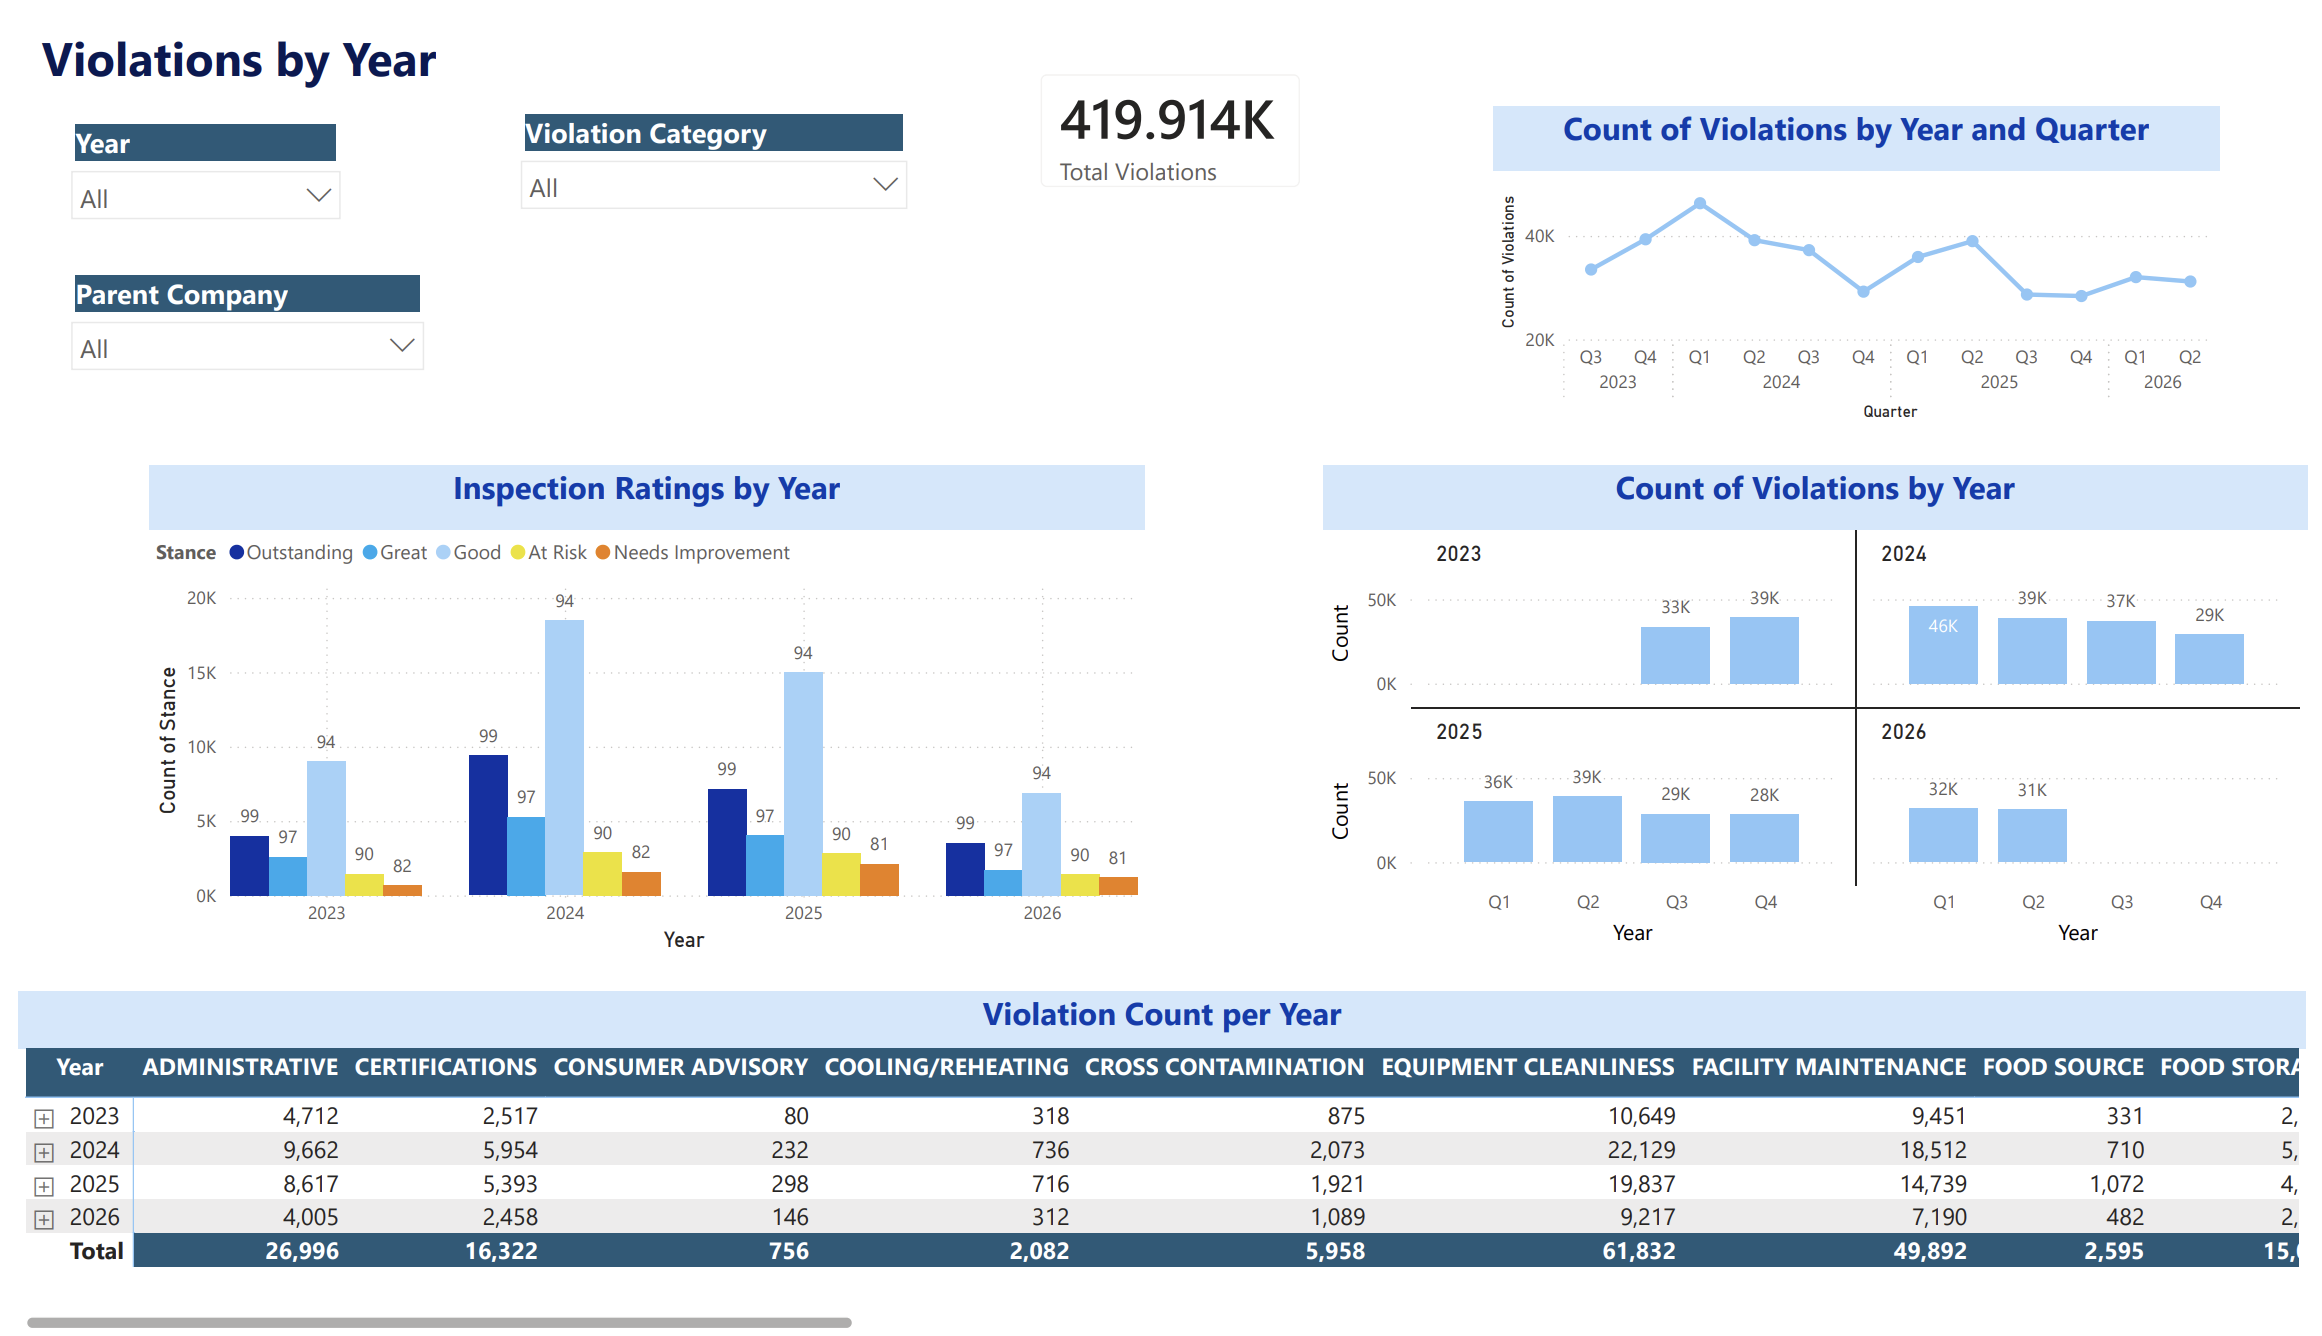

This screenshot's page, from the dashboard's own definition file:
{"tool":"powerbi","page":{"name":"Violations by Year","canvas":[1600,900],"ordinal":4},"visuals":[{"type":"clusteredColumnChart","title":"Inspection Ratings by Year","fields":{"Y":["CountNonNull(inspections_clean.Stance)"],"Series":["inspections_clean.Stance"],"Category":["CalendarDate.Year"]},"box":[102,306.1,679.6,336.7],"z":0},{"type":"lineChart","fields":{"Y":["CountNonNull(violations_clean.violation_description)"],"Category":["CalendarDate.Year","CalendarDate.Quarter"]},"box":[1020.4,61.2,495.9,218.4],"z":1000},{"type":"columnChart","title":"Count of Violations by Year","fields":{"Y":["CountNonNull(violations_clean.violation_description)"],"Rows":["CalendarDate.Year"],"Category":["CalendarDate.Quarter"]},"box":[904.1,306.1,671.4,332.7],"z":2000},{"type":"pivotTable","title":"Violation Count per Year","fields":{"Columns":["violations_clean.violation_mapping.standardized_category"],"Values":["inspections_clean.city_violation_count 2"],"Rows":["CalendarDate.Year","CalendarDate.Quarter"]},"box":[38.7,664.5,1561.3,235.5],"z":3000},{"type":"cardVisual","title":"fghh","fields":{"Data":["CountNonNull(violations_clean.violation_description)"]},"box":[693.9,22.4,210.7,110.7],"z":4000},{"type":"textbox","box":[24.2,0,604.8,66.1],"z":5000},{"type":"slicer","fields":{"Values":["CalendarDate.Year"]},"box":[39.3,67.9,203.2,79],"z":6000},{"type":"slicer","fields":{"Values":["violations_clean.violation_mapping.standardized_category"]},"box":[346.4,60.7,283.9,71.4],"z":7000},{"type":"slicer","fields":{"Values":["inspections_clean.parent_company_clean"]},"box":[38.8,171.4,261.2,87.8],"z":7001}]}

Visuals, with their boxes in screenshot pixels (x1, y1, x2, y2), scaled from the page's 1600x900 canvas onto the 2322x1336 screenshot:
"Inspection Ratings by Year" clusteredColumnChart: {"left": 148, "top": 454, "right": 1134, "bottom": 954}
lineChart - CountNonNull(violations_clean.violation_description) x CalendarDate.Year: {"left": 1481, "top": 91, "right": 2201, "bottom": 415}
"Count of Violations by Year" columnChart: {"left": 1312, "top": 454, "right": 2286, "bottom": 948}
"Violation Count per Year" pivotTable: {"left": 56, "top": 986, "right": 2321, "bottom": 1335}
"fghh" cardVisual: {"left": 1007, "top": 33, "right": 1313, "bottom": 198}
textbox: {"left": 35, "top": 0, "right": 913, "bottom": 98}
slicer - CalendarDate.Year: {"left": 57, "top": 101, "right": 352, "bottom": 218}
slicer - violations_clean.violation_mapping.standardized_category: {"left": 503, "top": 90, "right": 915, "bottom": 196}
slicer - inspections_clean.parent_company_clean: {"left": 56, "top": 254, "right": 435, "bottom": 385}
